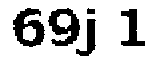1: (118, 6, 148, 51)
6: (9, 5, 46, 51)
9: (47, 6, 80, 48)
j: (79, 6, 105, 60)
